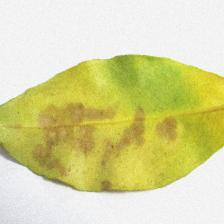black spot: (28, 90, 166, 167)
